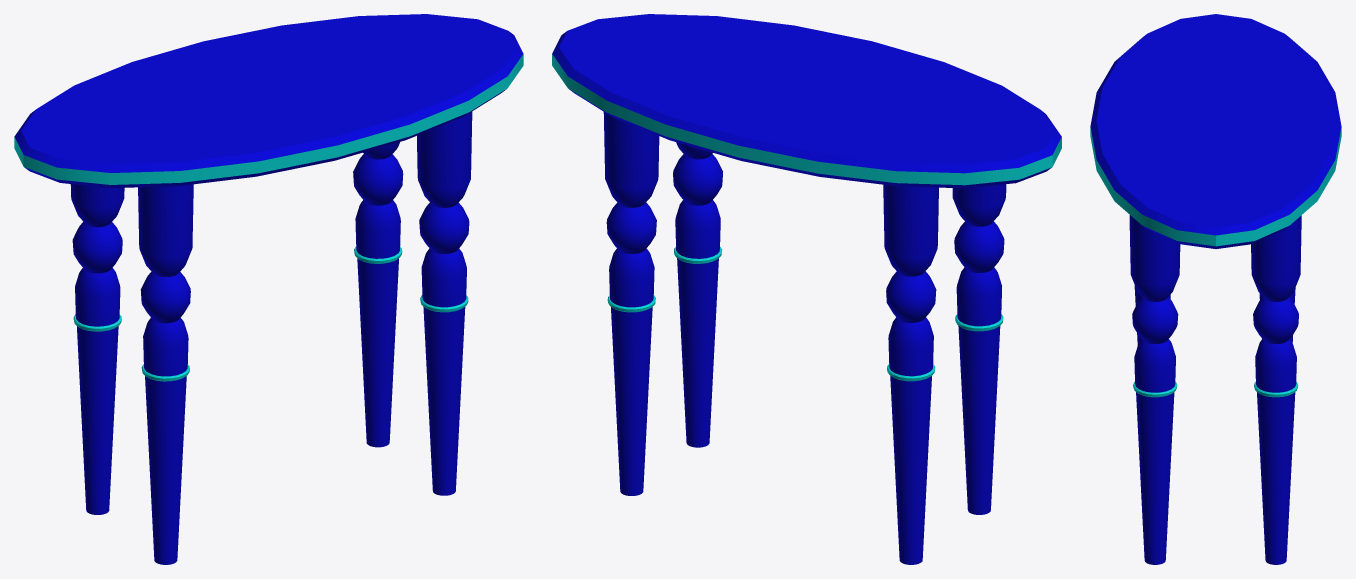
Rendered from Table.fbx.
3 views of the same model, side by side, from view 1: azimuth 30°, elevation 25°; view 2: azimuth 150°, elevation 25°; view 3: azimuth 270°, elevation 25° (orthographic). The views are drawn at different scales.
Visible parts, largest first — view 1: pCylinder1, pCylinder2, pCylinder5, pCylinder3, pCylinder4; view 2: pCylinder1, pCylinder3, pCylinder4, pCylinder2, pCylinder5; view 3: pCylinder1, pCylinder5, pCylinder4.
Boxes of the visible parts, x1,y1,x2,y2 form: pCylinder1: (14, 14, 523, 188); pCylinder2: (138, 184, 193, 564); pCylinder5: (417, 111, 472, 495); pCylinder3: (70, 184, 124, 514); pCylinder4: (353, 142, 403, 447); pCylinder1: (552, 14, 1061, 188); pCylinder3: (883, 184, 938, 564); pCylinder4: (603, 112, 659, 495); pCylinder2: (952, 184, 1006, 514); pCylinder5: (673, 142, 722, 447); pCylinder1: (1090, 14, 1341, 248); pCylinder5: (1129, 215, 1180, 564); pCylinder4: (1251, 215, 1301, 564).
Bounding box in the file's own units: 5.17 × 4.15 × 2.51.
